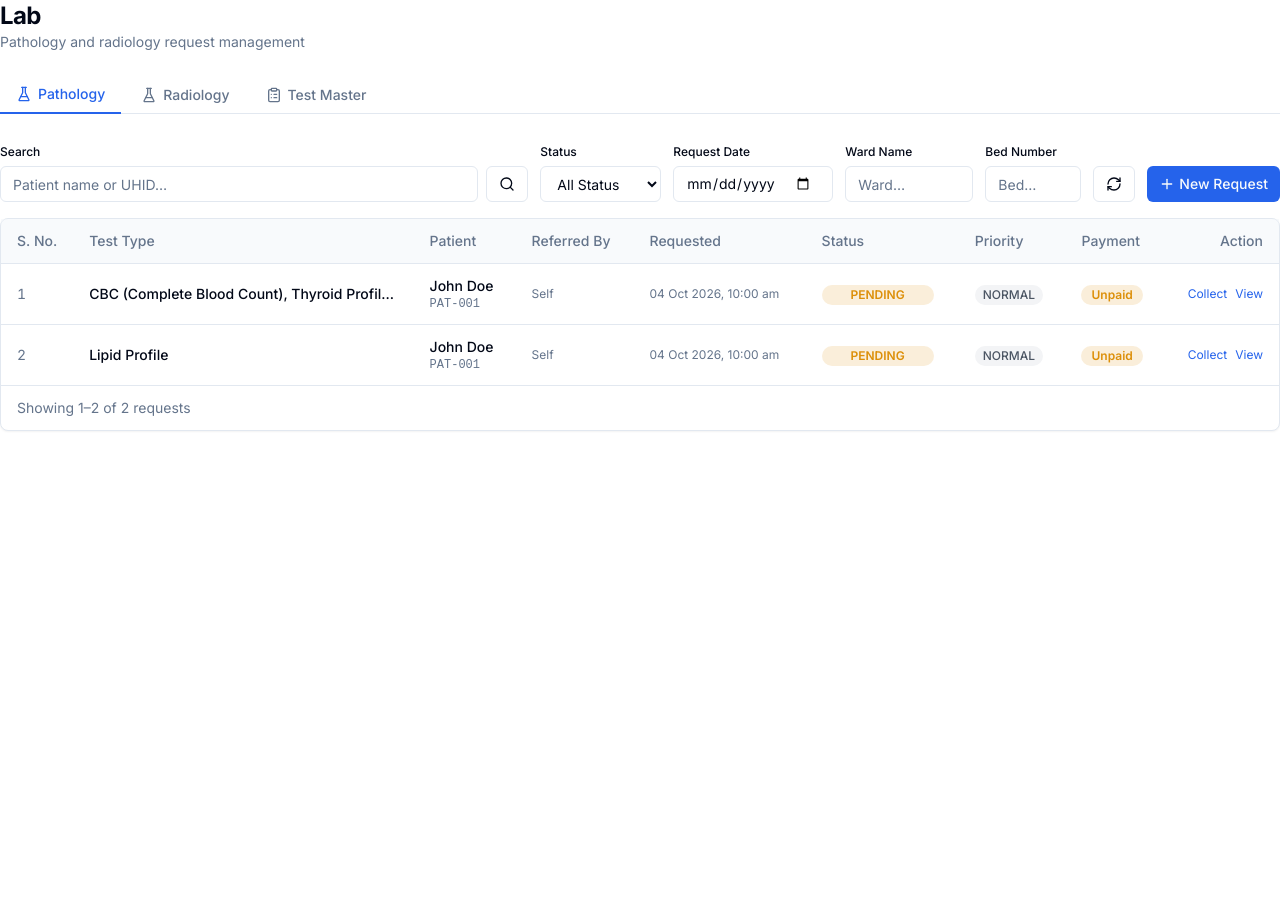
Test: Lab View — OPD and IPD requests for the same patient › viewing one request after the other never carries details across
This screenshot has width=1280, height=900.
Click the 1st button "View" at (1249, 294), box [1235,286,1263,302]
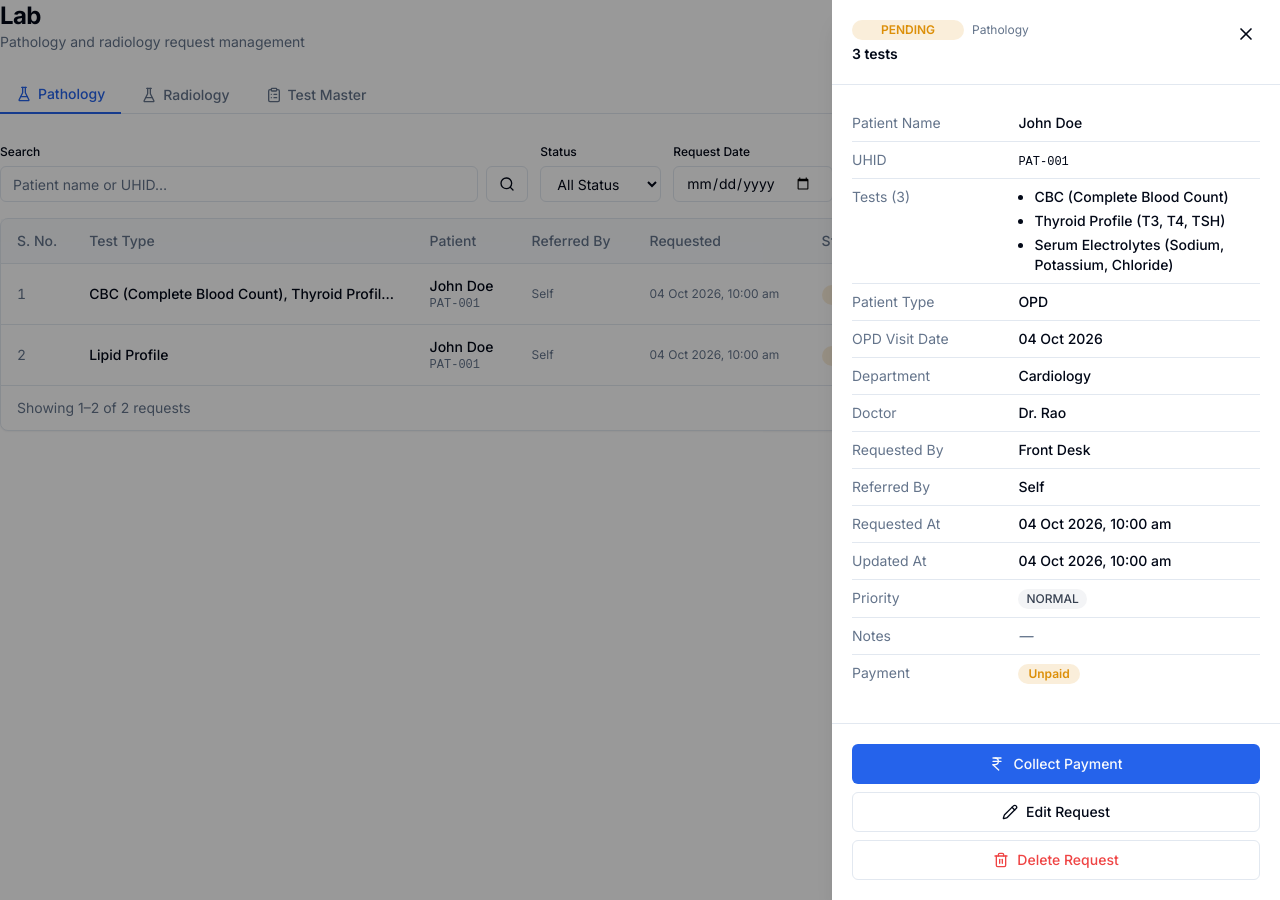
expect the text "OPD" is shown: met, box [1018,293,1048,310]
Press Escape
Click the 1st button at (1246, 34), box [1232,20,1260,48]
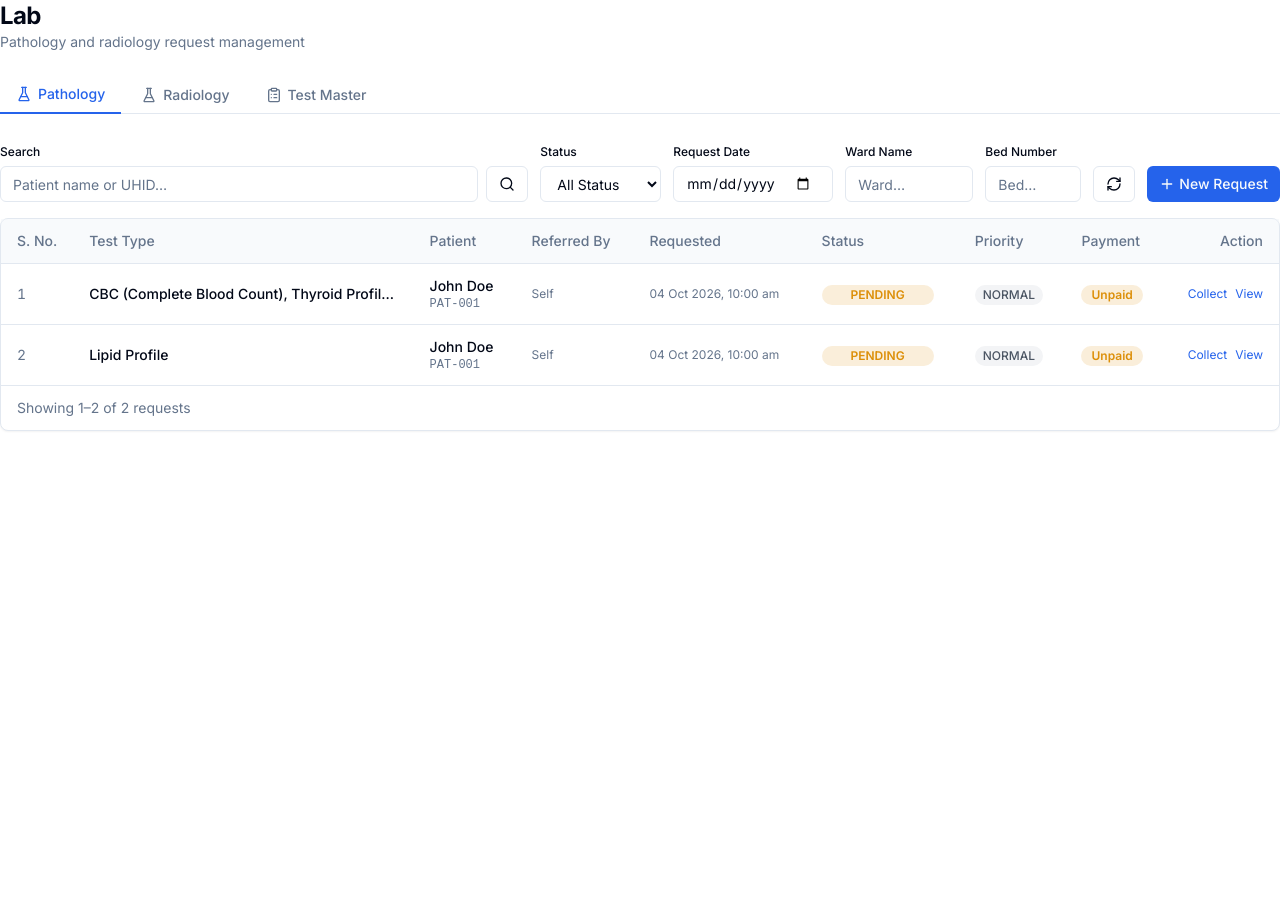
Click the button "View" in the row of "Lipid Profile" at (1249, 355), box [1235,347,1263,363]
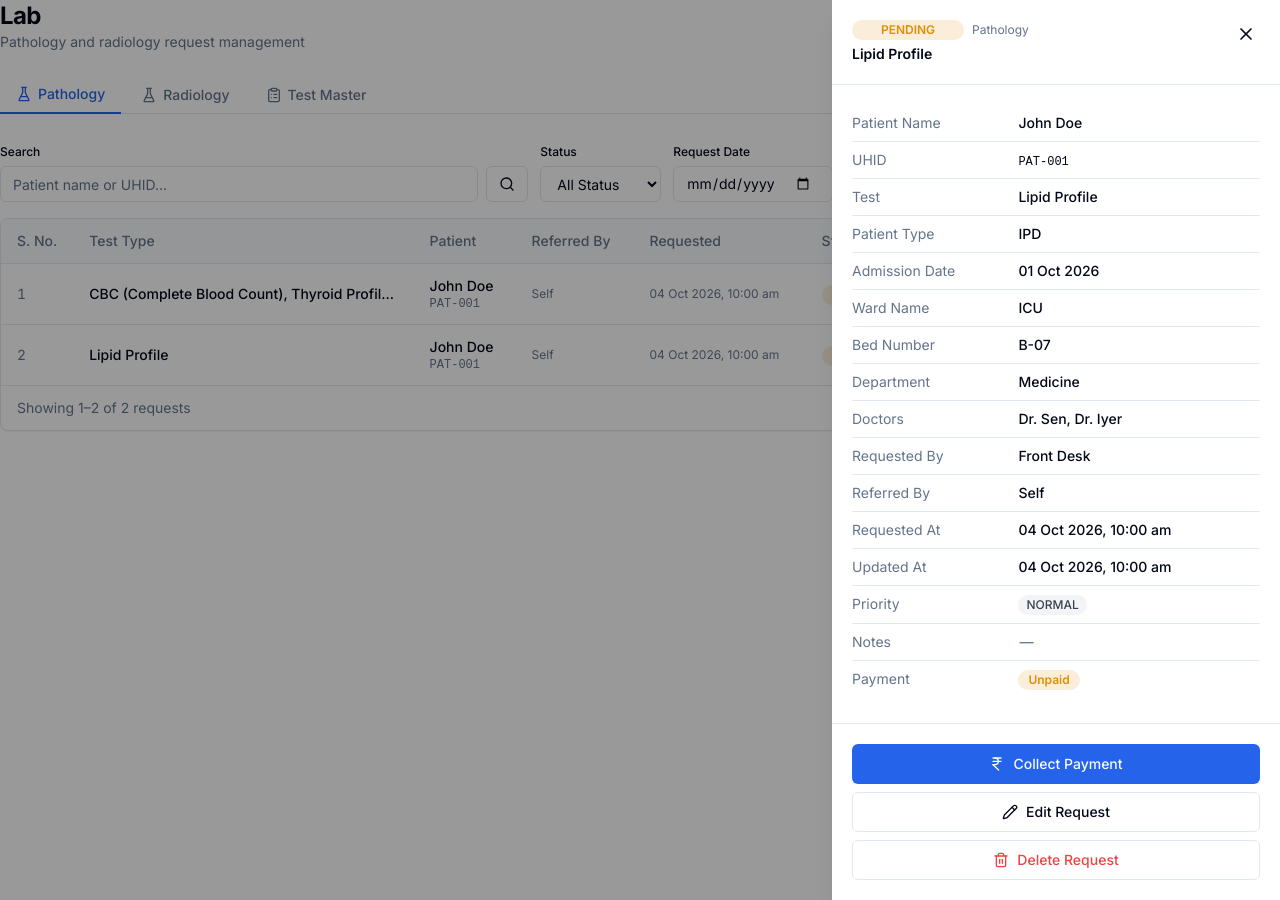
expect the text "Cardiology" is not shown: met
expect the text "IPD" is shown: met, box [1018,225,1041,242]
Press Escape
Click the 1st button at (1246, 34), box [1232,20,1260,48]
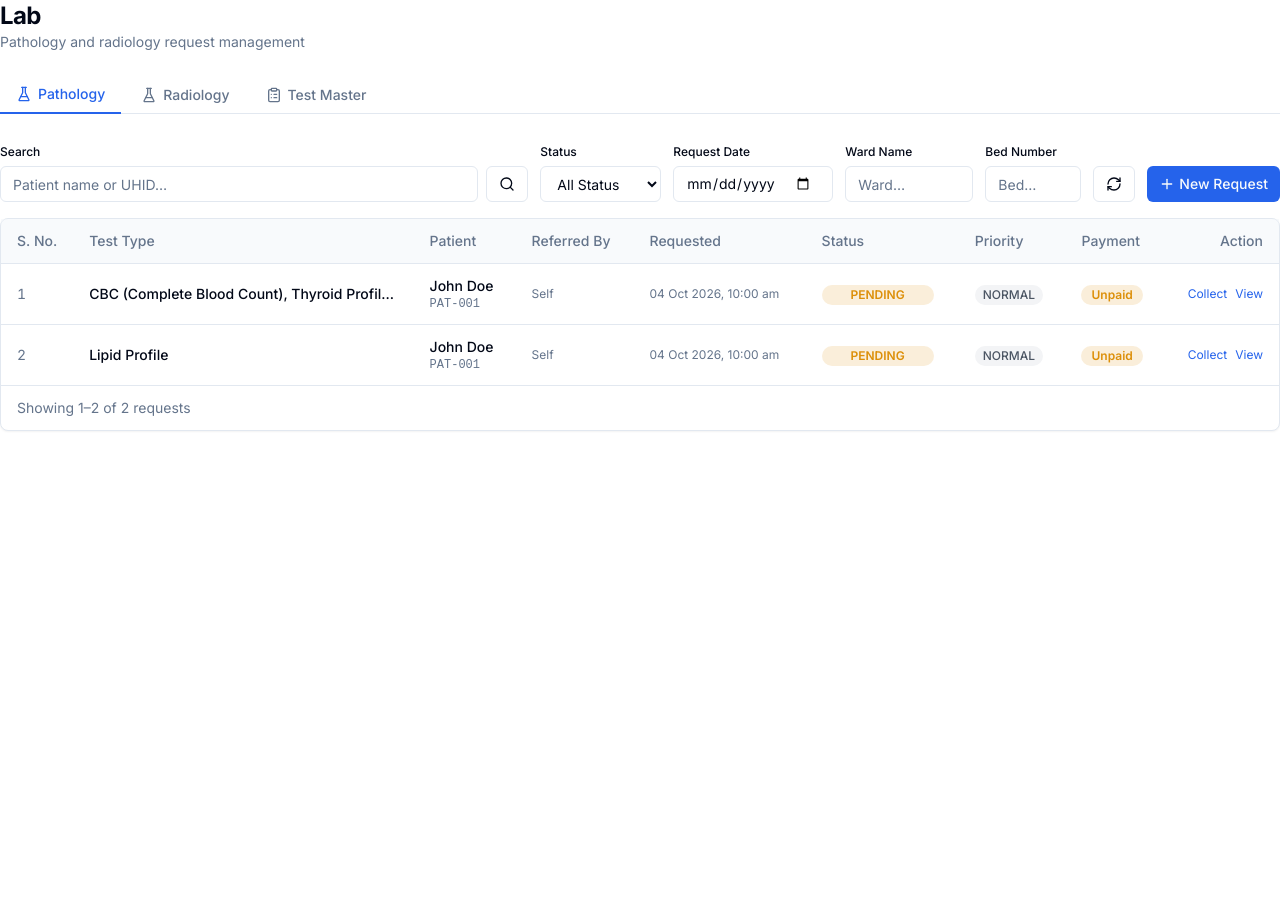
Click the 1st button "View" at (1249, 294), box [1235,286,1263,302]
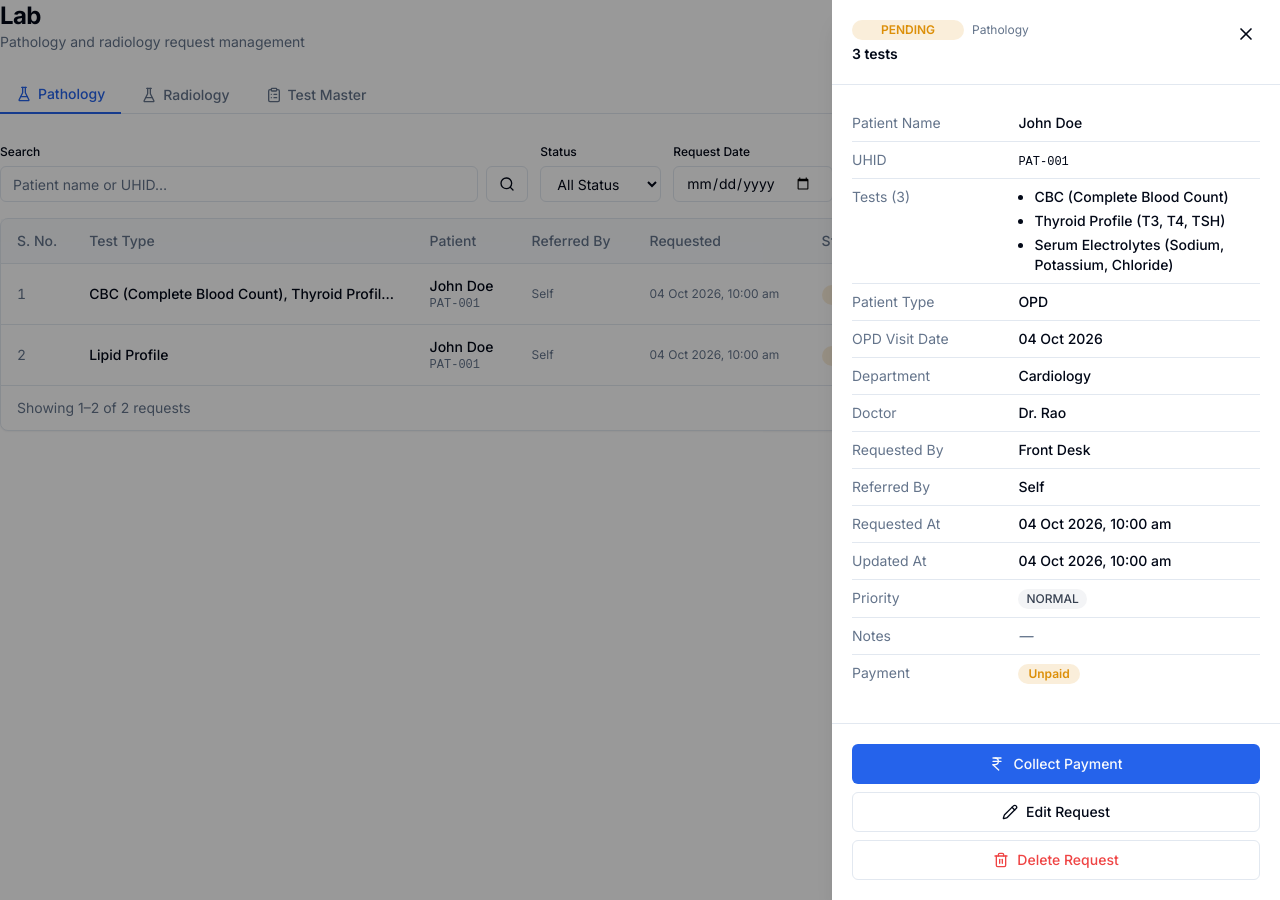
expect the text "ICU" is not shown: met
expect the text "OPD" is shown: met, box [1018,293,1048,310]
